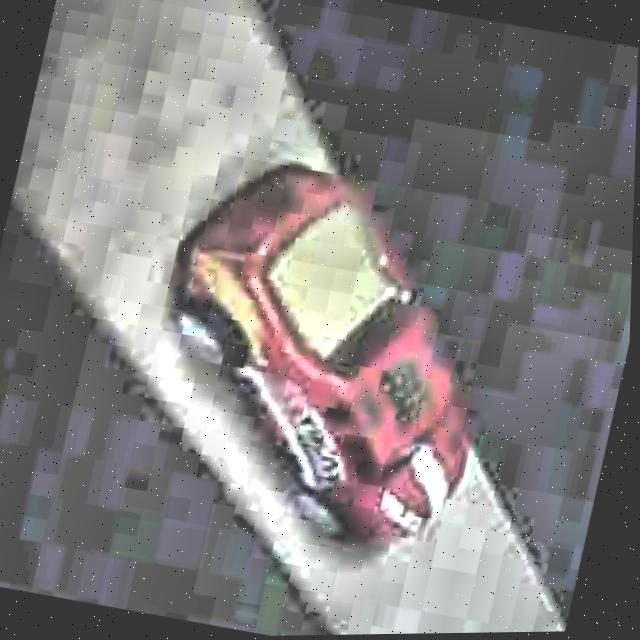car: (115, 139, 531, 569)
